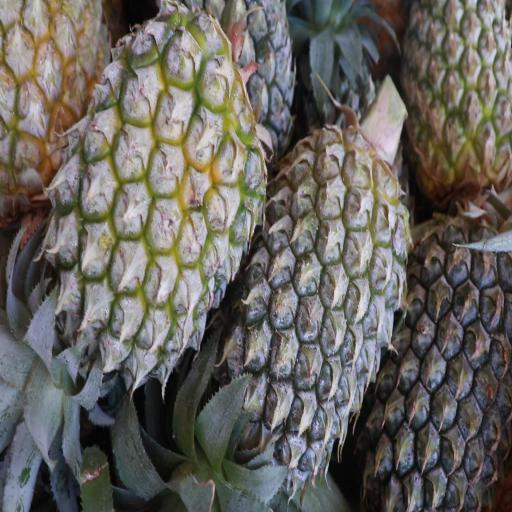------------------------------: (57, 43, 250, 383), (0, 0, 116, 198), (403, 0, 507, 205)
